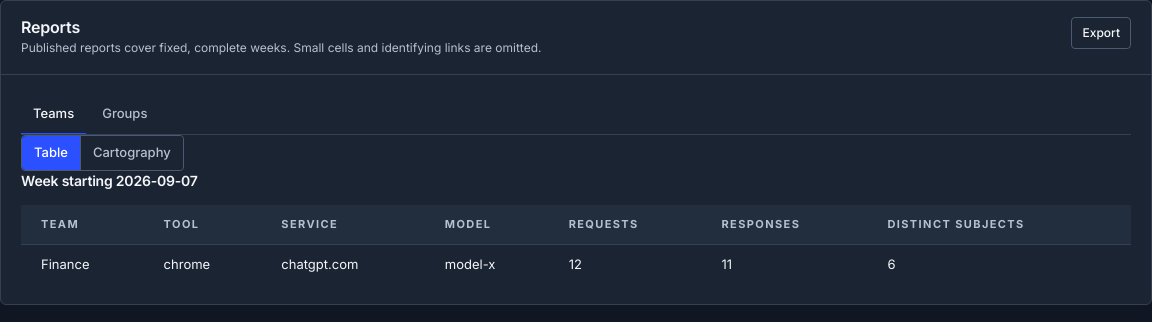
Test: says a week predating the group breakdown has none, instead of showing it empty
Expected: the column heading "Team" is shown, 21,205 -> 148,245
Click the button "Groups".
click(125, 115)  # box 90,95 -> 159,135
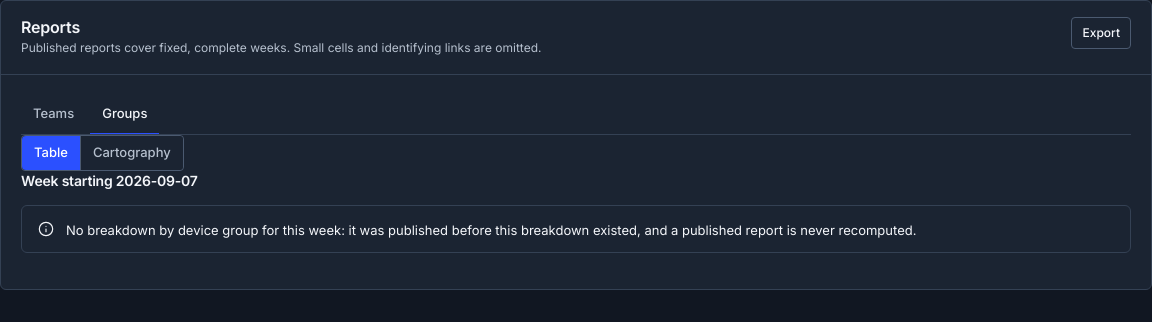
Expected: the text "never recomputed" is shown, 66,222 -> 916,238
Expected: the table is gone
